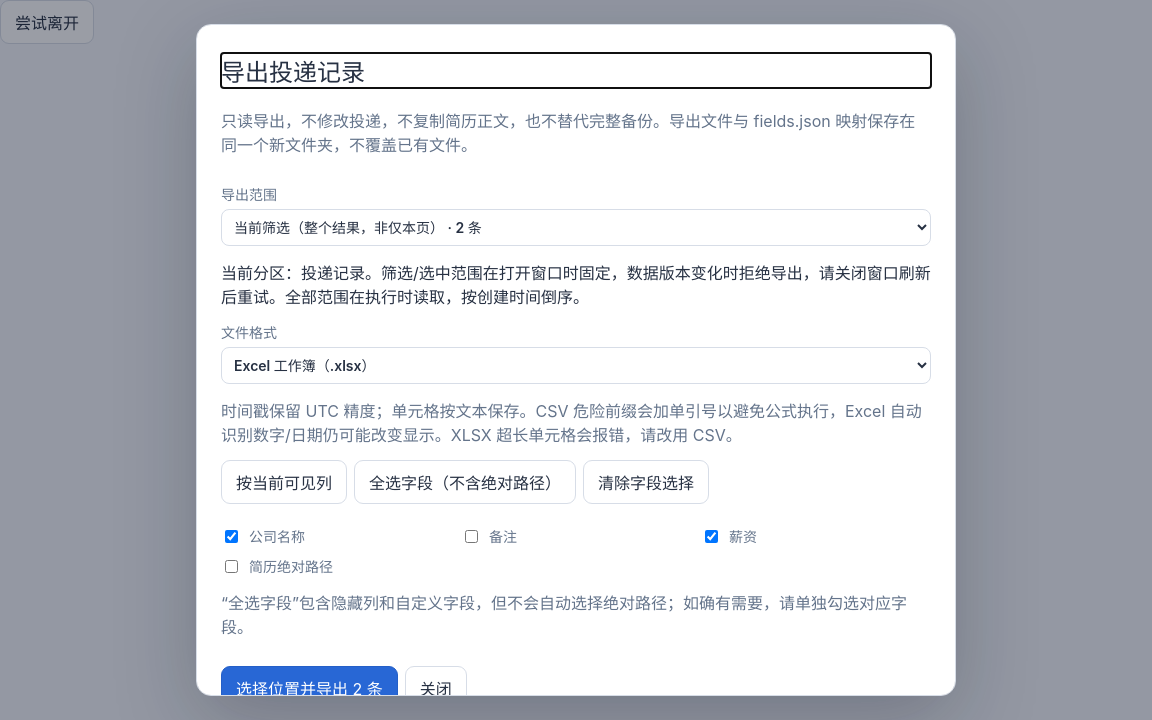
Test: exports all filtered rows with revisions and visible custom columns but not private paths
The width and height of the screenshot is (1152, 720).
Expected: the dropdown labelled "导出范围" is enabled, x1=221 y1=209 x2=931 y2=246
Click the button "选择位置并导出 2 条": [309, 688] box x1=221 y1=666 x2=398 y2=710
(page scrolled)
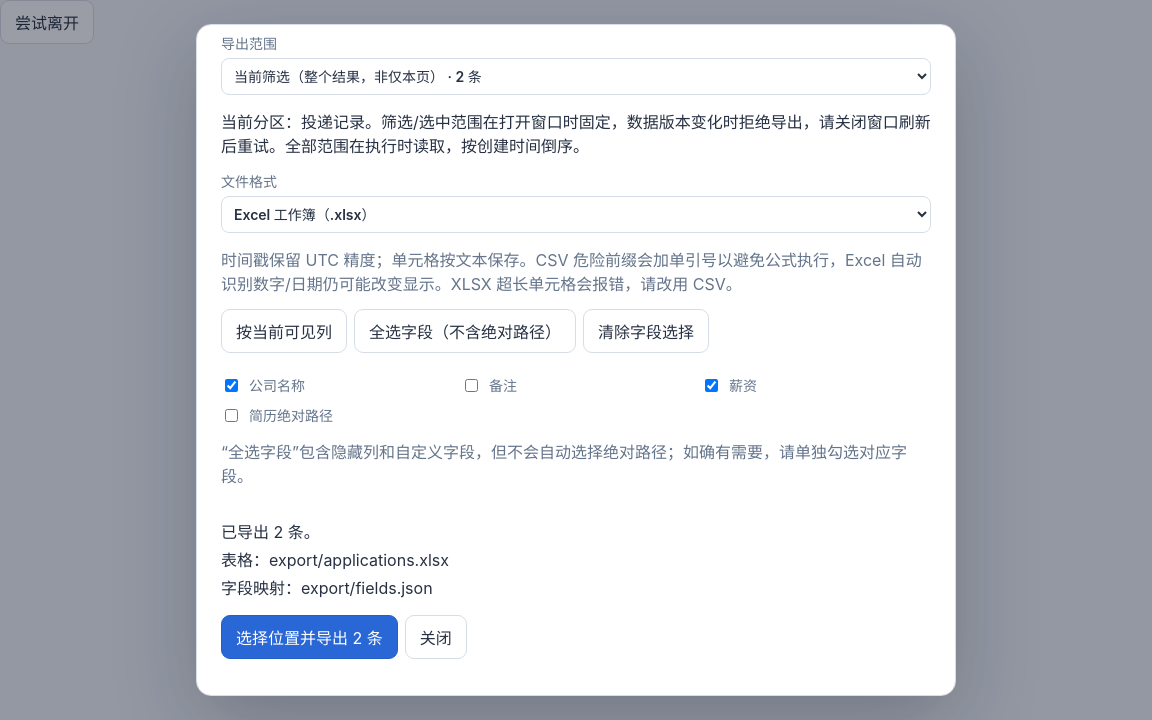
Expected: the text "已导出 2 条。" is shown, x1=221 y1=522 x2=320 y2=542
Expected: the text "字段映射：export/fields.json" is shown, x1=221 y1=578 x2=433 y2=598
